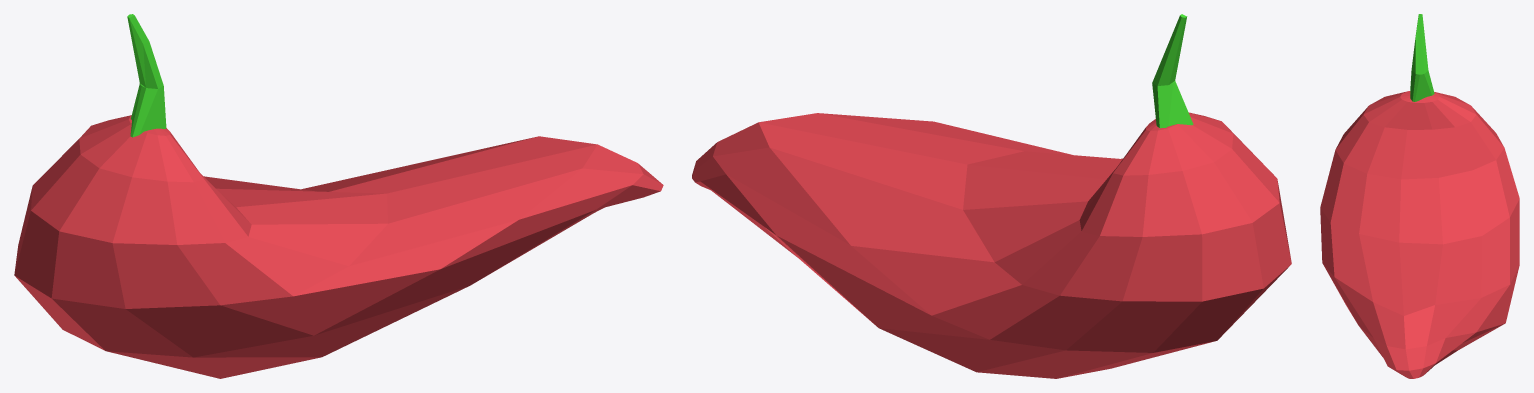
File: Chili.glb
The picture shows the model from 3 angles, left to right: view 1: azimuth 30°, elevation 25°; view 2: azimuth 150°, elevation 25°; view 3: azimuth 270°, elevation 25°; orthographic projection. The views are drawn at different scales.
Parts seen in each view (by area): view 1: chilli; view 2: chilli; view 3: chilli.
Part boxes in pixels (bbox=[...]): chilli: bbox=[14, 14, 663, 378]; chilli: bbox=[692, 14, 1291, 378]; chilli: bbox=[1320, 14, 1519, 378].
Size of the model in its own units: 0.2953 by 0.1705 by 0.1241.
